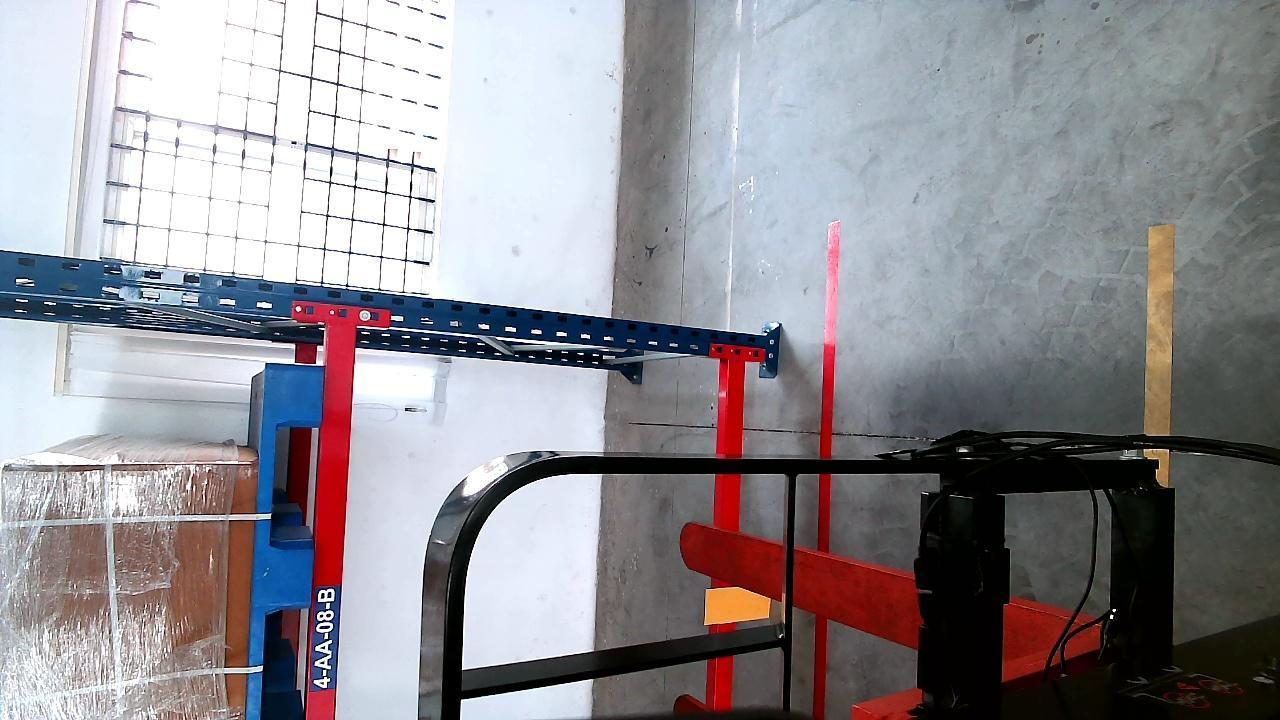h_rack: (307, 329, 355, 720), (706, 363, 745, 707)
orange_strip: (706, 584, 780, 623)
red_line: (813, 217, 840, 720)
small_pallet: (244, 363, 322, 719)
yellow_line: (1145, 214, 1171, 450)
